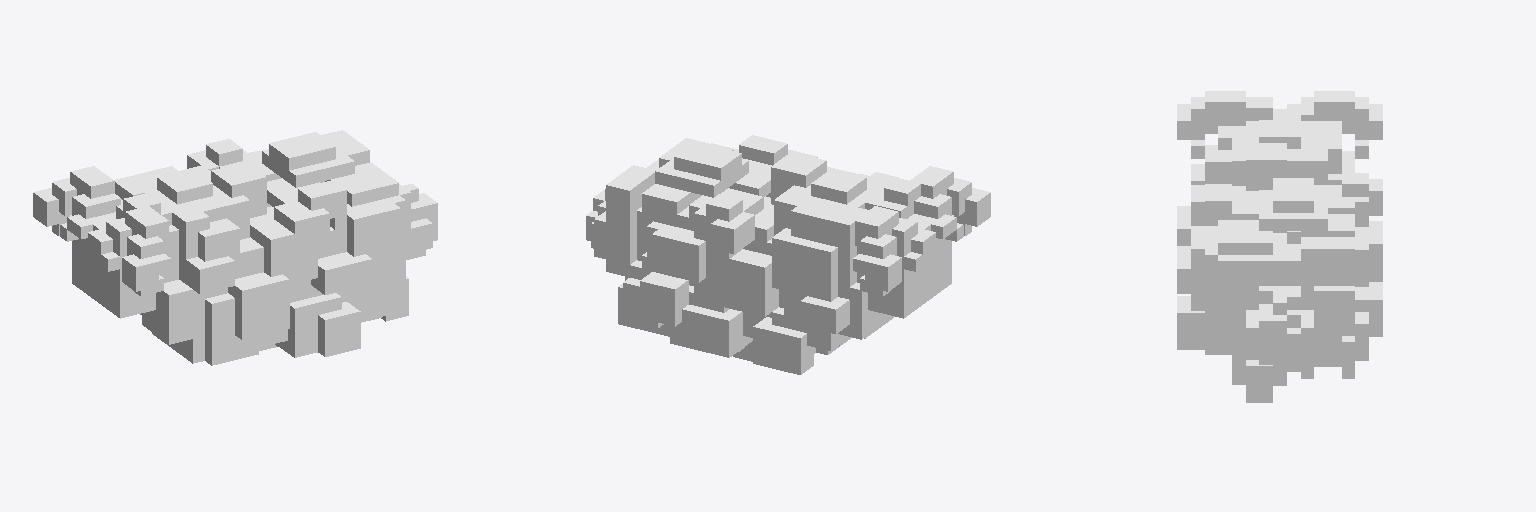
The model's file is sheep-1.obj.
The picture shows the model from 3 angles: view 1: azimuth 30°, elevation 25°; view 2: azimuth 150°, elevation 25°; view 3: azimuth 270°, elevation 25°; orthographic projection.
Parts seen in each view (by area): view 1: object 1; view 2: object 1; view 3: object 1.
Part boxes in pixels (x1,y1,x2,y2): object 1: (33, 130, 437, 365); object 1: (586, 135, 990, 374); object 1: (1177, 91, 1382, 402).
Bounding box in the file's own units: 2.9 × 1.5 × 1.5.